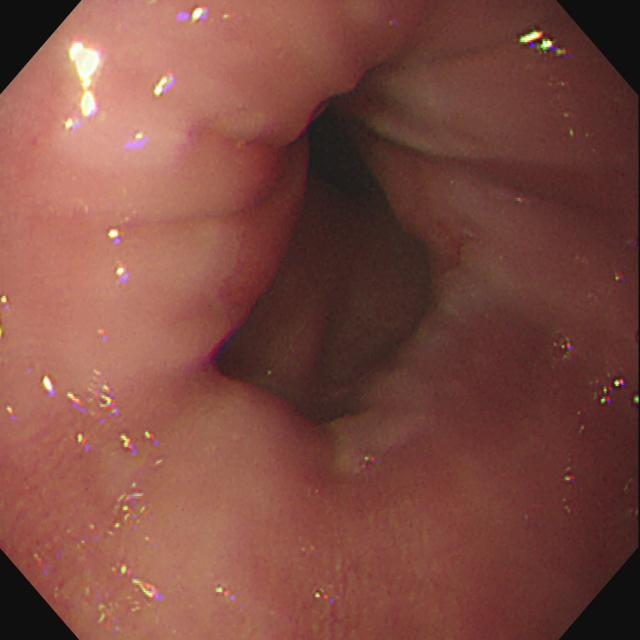E: (282, 66, 389, 223)
I: (198, 213, 257, 315)
U: (65, 42, 103, 131), (521, 32, 571, 59), (101, 386, 118, 417), (43, 377, 55, 397)
